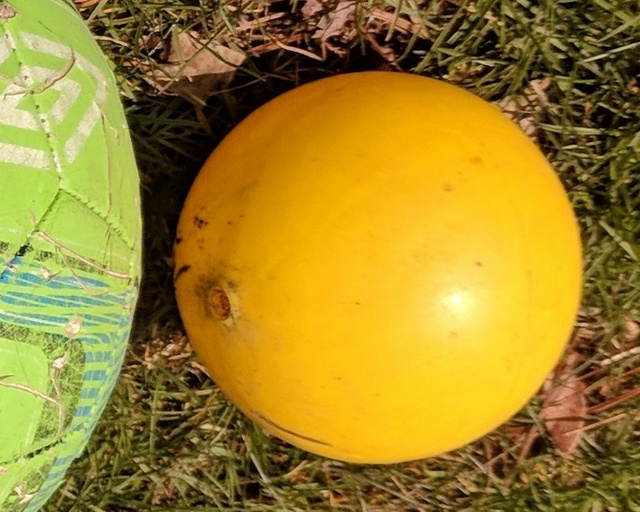ball: (170, 63, 585, 464)
